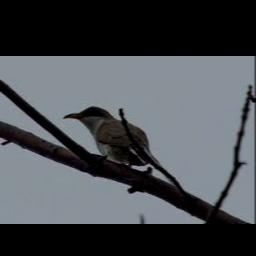Cuckoo: (65, 105, 154, 166)
